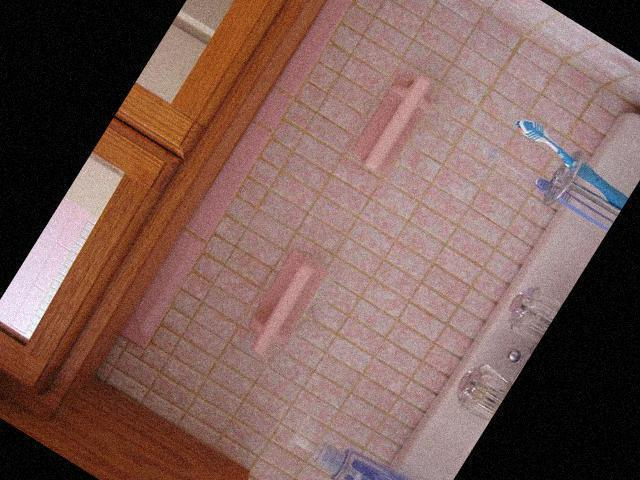Lavamanos: (342, 93, 640, 480)
